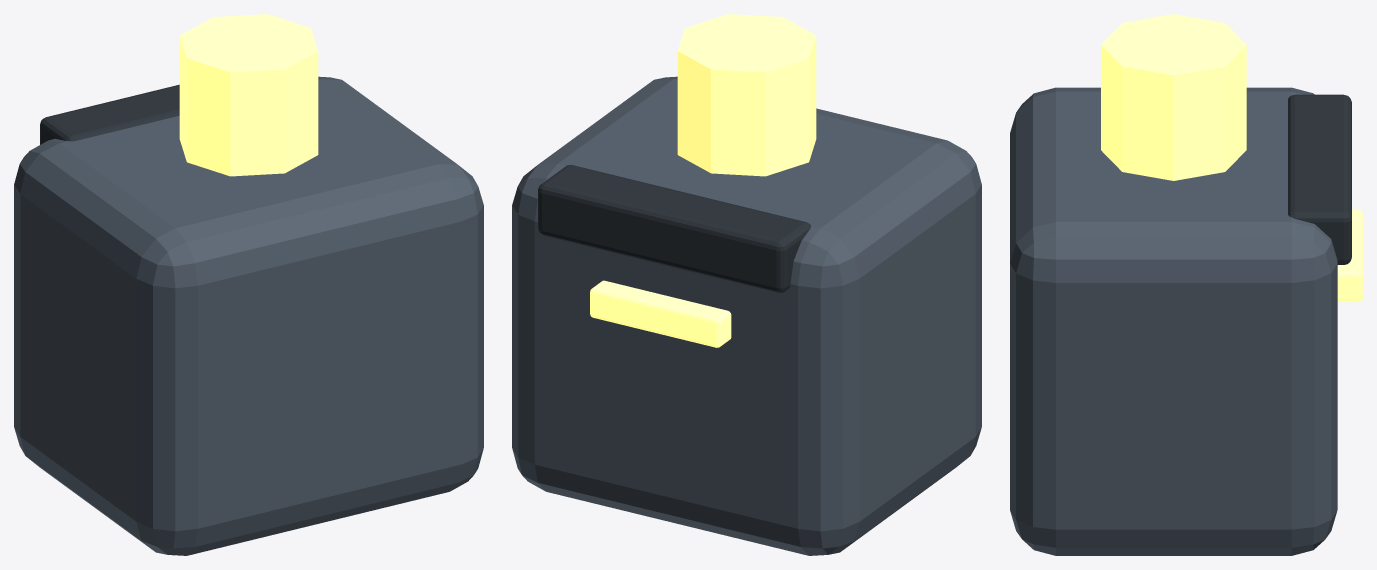
File: prop_generator.glb
3 views of the same model, side by side, from view 1: azimuth 30°, elevation 25°; view 2: azimuth 150°, elevation 25°; view 3: azimuth 270°, elevation 25° (orthographic).
Visible parts, largest first — view 1: prop_generator; view 2: prop_generator; view 3: prop_generator.
Boxes of the visible parts, box(x1,y1,x2,y2) form: prop_generator: box(14, 14, 483, 555); prop_generator: box(512, 14, 981, 555); prop_generator: box(1010, 14, 1362, 555).
Size of the model in its own units: 1.1 by 1.34 by 0.97.
